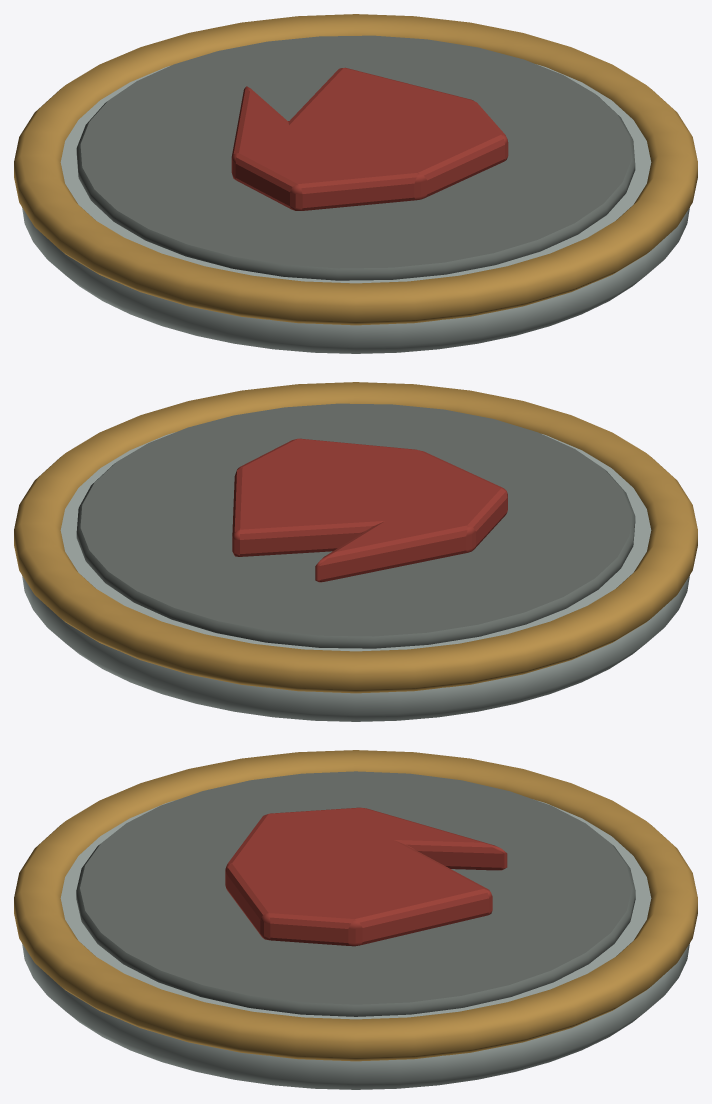
The model's file is ServiceToken_Fire.fbx.
3 renders of one model, top to bottom at view 1: azimuth 30°, elevation 25°; view 2: azimuth 150°, elevation 25°; view 3: azimuth 270°, elevation 25°, orthographic.
Parts seen in each view (by area): view 1: Enamel field.003, Raised rim.003, Flame icon, Stamped metal blank.003; view 2: Enamel field.003, Raised rim.003, Flame icon, Stamped metal blank.003; view 3: Enamel field.003, Raised rim.003, Flame icon, Stamped metal blank.003.
Boxes of the visible parts, <box> form: Enamel field.003: <box>76,35,635,280</box>; Raised rim.003: <box>14,14,697,325</box>; Flame icon: <box>231,67,508,210</box>; Stamped metal blank.003: <box>22,64,689,353</box>; Enamel field.003: <box>76,403,635,648</box>; Raised rim.003: <box>14,382,697,693</box>; Flame icon: <box>232,438,507,582</box>; Stamped metal blank.003: <box>22,432,689,721</box>; Enamel field.003: <box>76,771,635,1016</box>; Raised rim.003: <box>14,750,697,1061</box>; Flame icon: <box>225,807,507,946</box>; Stamped metal blank.003: <box>22,800,689,1089</box>.
Bounding box in the file's own units: 0.088 × 0.013 × 0.088.
